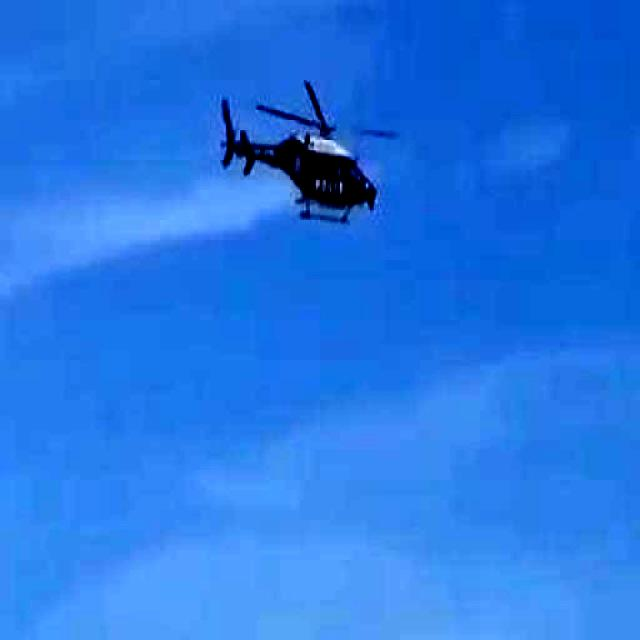drone: (195, 31, 405, 295)
